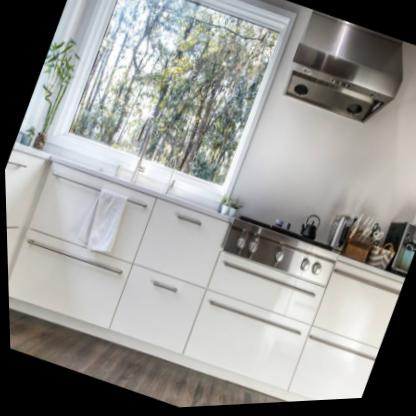Cabinet: (4, 141, 405, 416)
Window: (38, 0, 300, 217)
